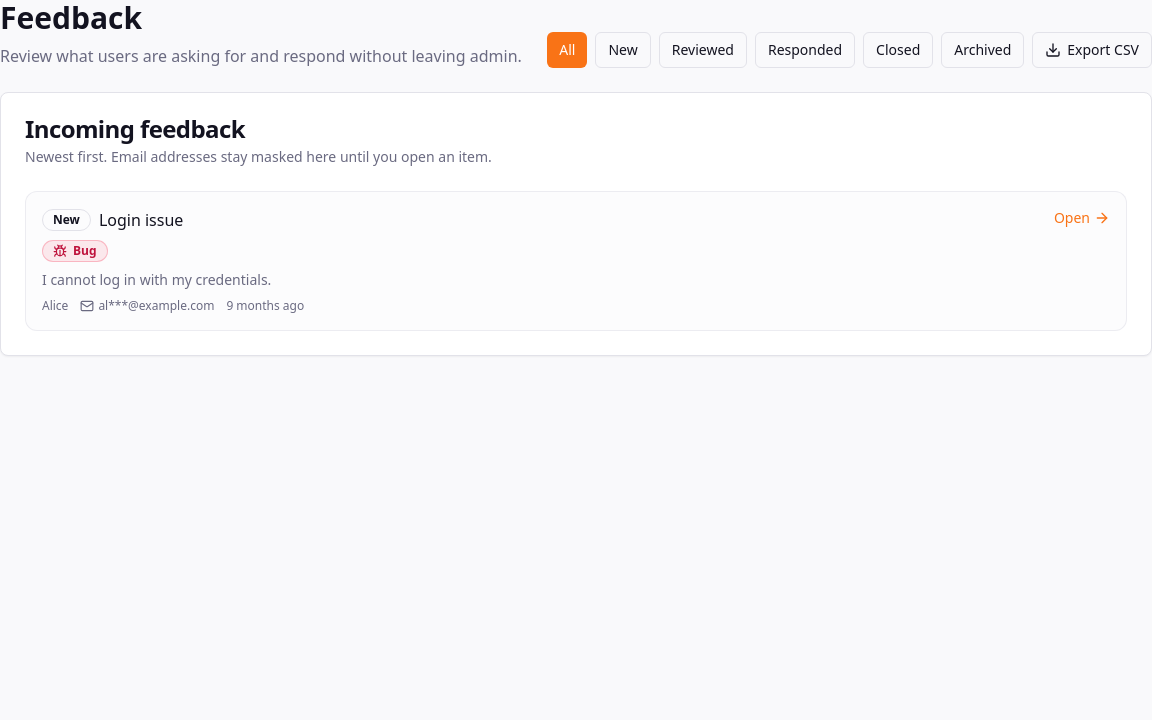
Test: AdminFeedbackPage › opens detail dialog on item click
This screenshot has width=1152, height=720.
Check: the text "Login issue" is shown, box [99,208,183,232]
Click the button named "open": (576, 261) [25,191,1127,331]
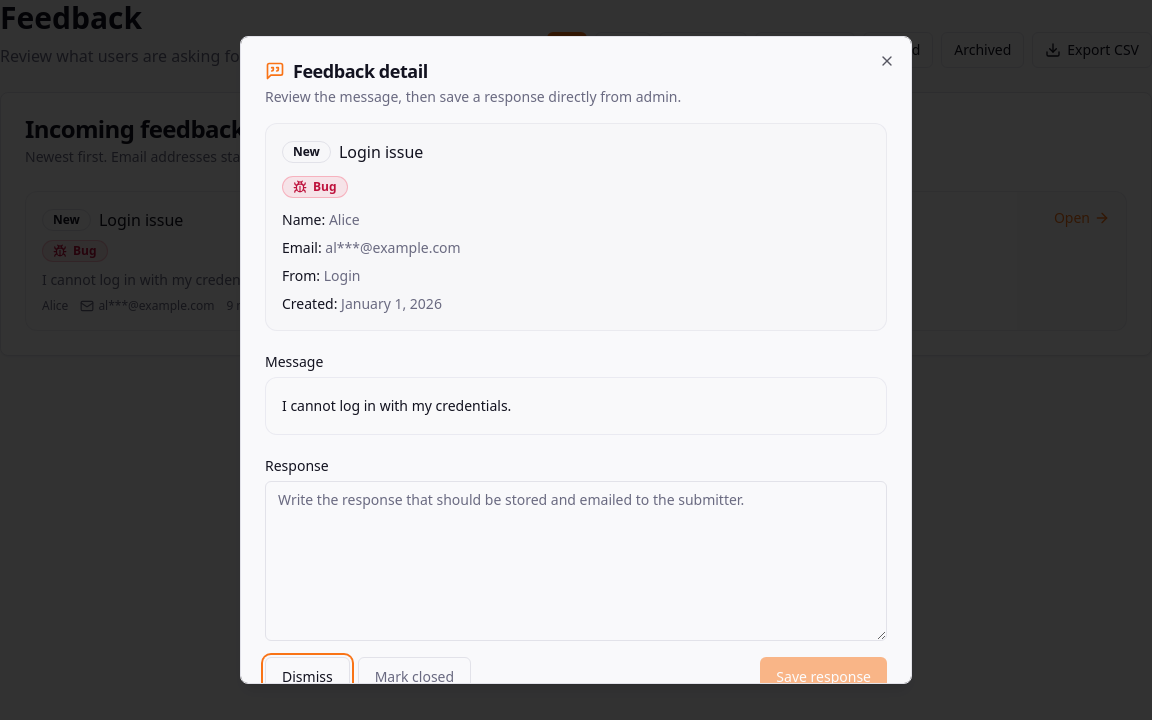
Check: the heading "Feedback detail" is shown, box [265,59,428,83]
